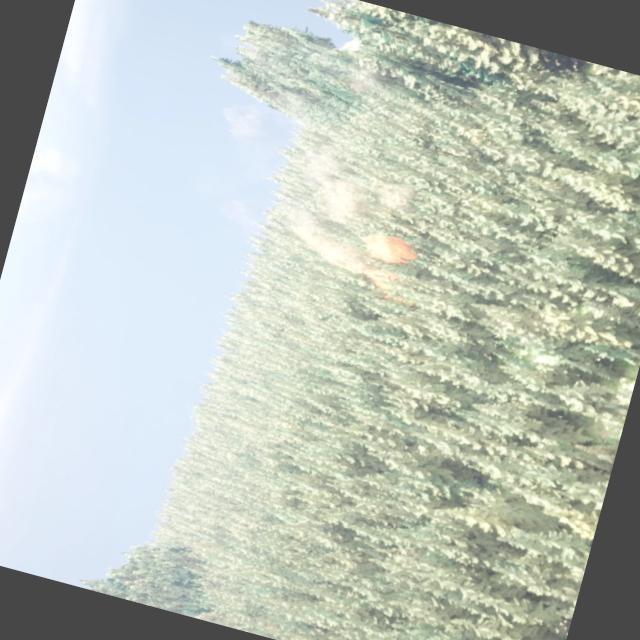fire: (350, 222, 417, 300)
smoke: (179, 90, 435, 282)
